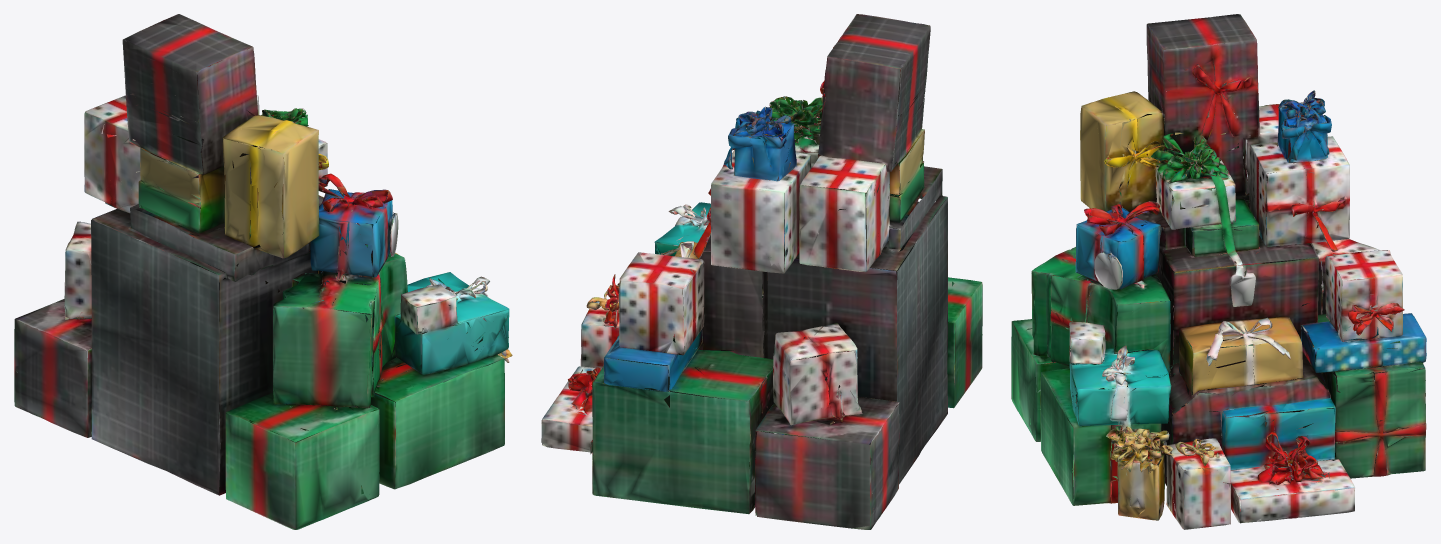
The model's file is cadeaux2.glb.
The picture shows the model from 3 angles, left to right: view 1: azimuth 30°, elevation 25°; view 2: azimuth 150°, elevation 25°; view 3: azimuth 270°, elevation 25°; orthographic projection. The views are drawn at different scales.
Visible parts, largest first — view 1: Object_4; view 2: Object_4; view 3: Object_4.
Part boxes in pixels (x1,y1,x2,y2): Object_4: (14, 14, 512, 529); Object_4: (541, 14, 982, 529); Object_4: (1011, 14, 1426, 529).
Bounding box in the file's own units: 1.83 × 1.9 × 1.93.
Materials: 1 (1 with a texture image).
